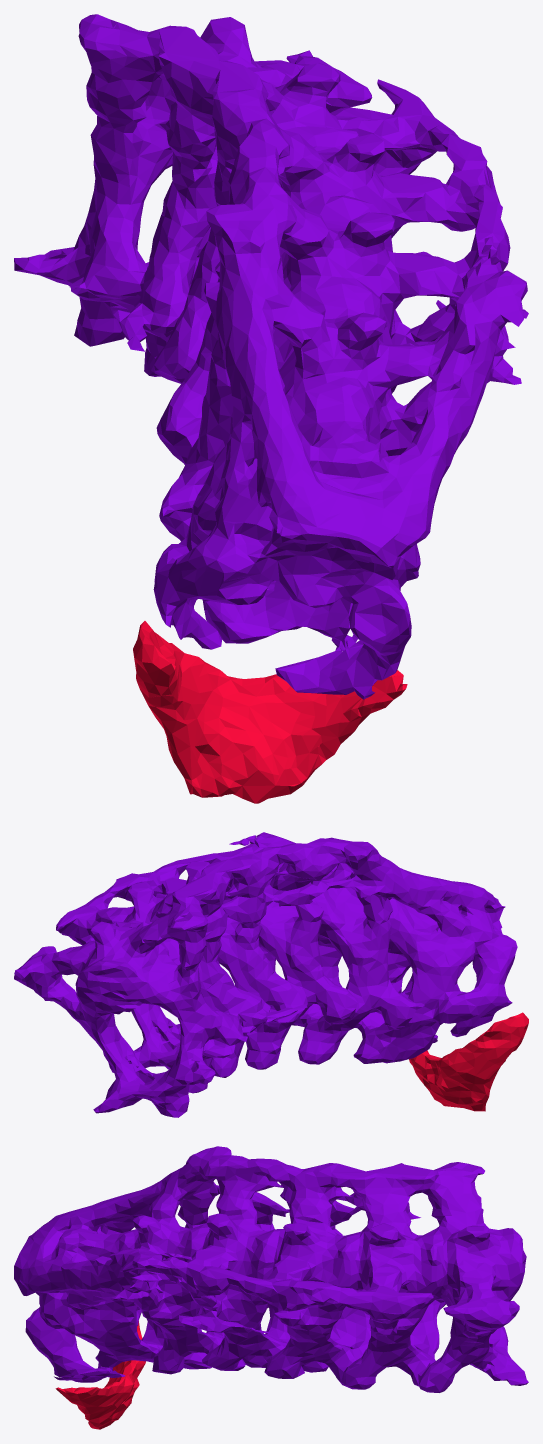
File: neck.glb
3 views of the same model, one above another, from view 1: azimuth 30°, elevation 25°; view 2: azimuth 150°, elevation 25°; view 3: azimuth 270°, elevation 25° (orthographic). The views are drawn at different scales.
Visible parts, largest first — view 1: Shape_IndexedFaceSet, Shape_IndexedFaceSet.001; view 2: Shape_IndexedFaceSet, Shape_IndexedFaceSet.001; view 3: Shape_IndexedFaceSet, Shape_IndexedFaceSet.001.
Boxes of the visible parts, x1,y1,x2,y2 form: Shape_IndexedFaceSet: (14,14,528,699); Shape_IndexedFaceSet.001: (133,621,407,803); Shape_IndexedFaceSet: (14,832,517,1117); Shape_IndexedFaceSet.001: (409,1012,528,1111); Shape_IndexedFaceSet: (14,1146,528,1392); Shape_IndexedFaceSet.001: (55,1321,145,1429).
Bounding box in the file's own units: 0.0129 × 0.0119 × 0.018.
